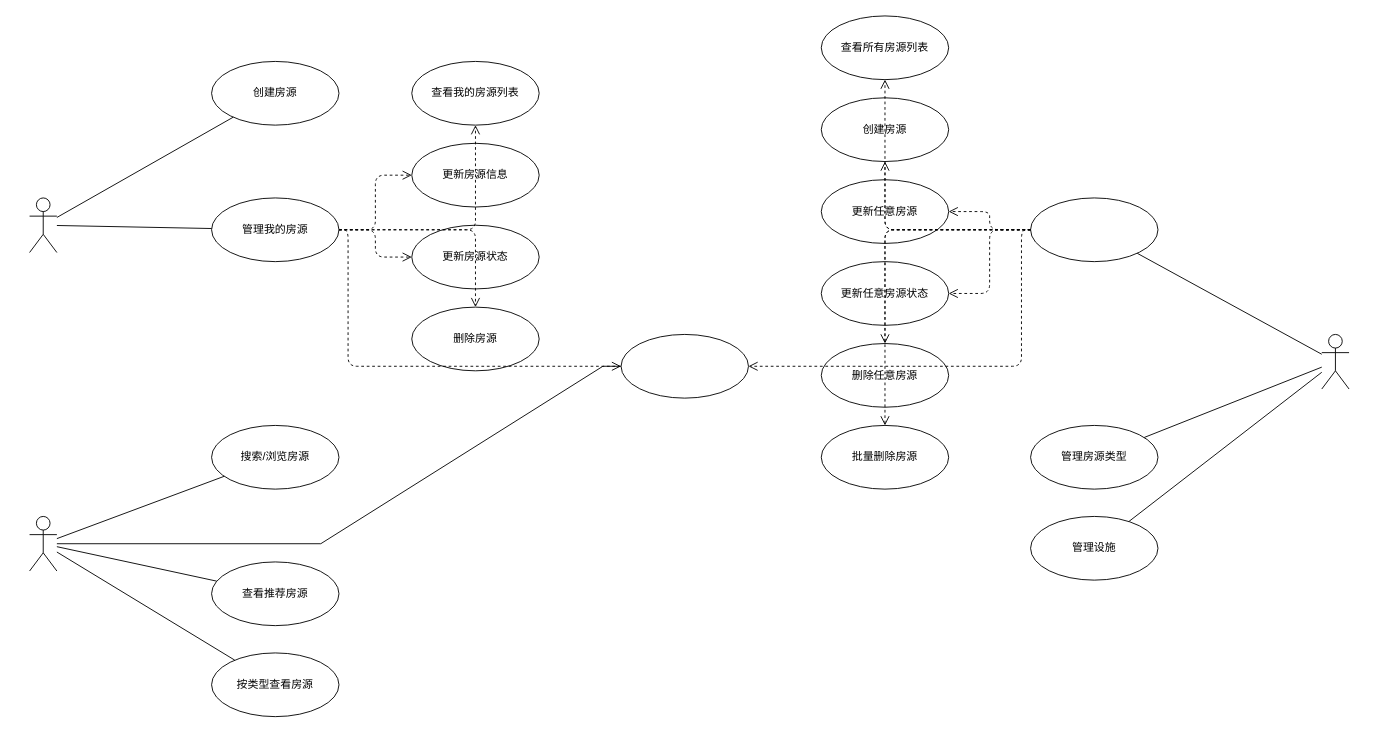
Some shapes in this 1388 by 733 pixel diagram are drawn without their labels. Here are the shapes that lost their labels. From the top down, the centre of each, then its label:
At (x=43, y=225): "房东 (Host)".
At (x=1094, y=229): "管理所有房源".
At (x=684, y=366): "查看房源详情".
At (x=1335, y=361): "管理员 (Admin)".
At (x=43, y=543): "用户 (User)".
